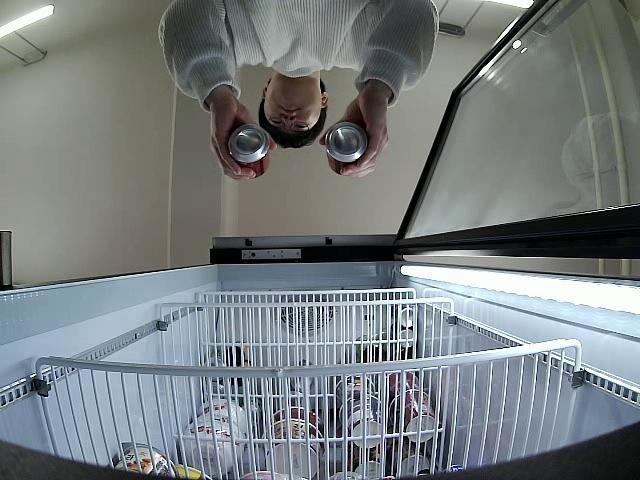11_cocaColaZero: (226, 126, 271, 178), (324, 123, 368, 176)
